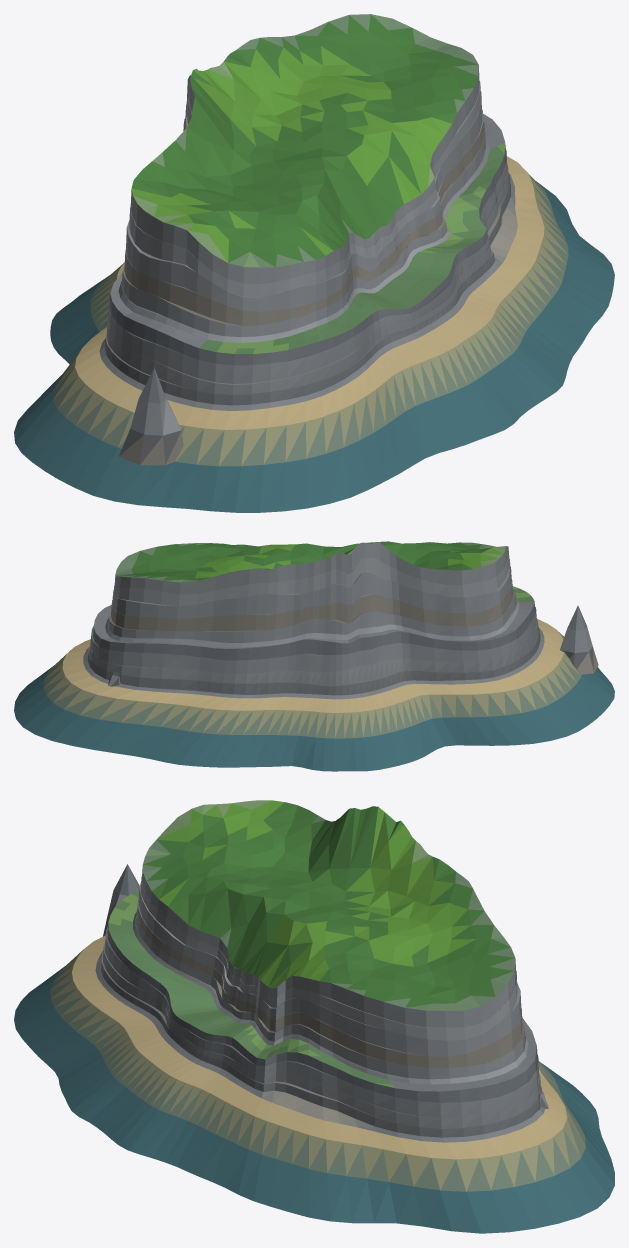
Rendered from skills.glb.
3 views of the same model, one above another, from view 1: azimuth 30°, elevation 25°; view 2: azimuth 150°, elevation 25°; view 3: azimuth 270°, elevation 25° (orthographic). The views are drawn at different scales.
Visible parts, largest first — view 1: skills; view 2: skills; view 3: skills.
Boxes of the visible parts, bbox=[...] form: skills: bbox=[14, 14, 614, 512]; skills: bbox=[14, 541, 614, 771]; skills: bbox=[14, 800, 614, 1233].
Size of the model in its own units: 65.05 by 25.37 by 56.3.
